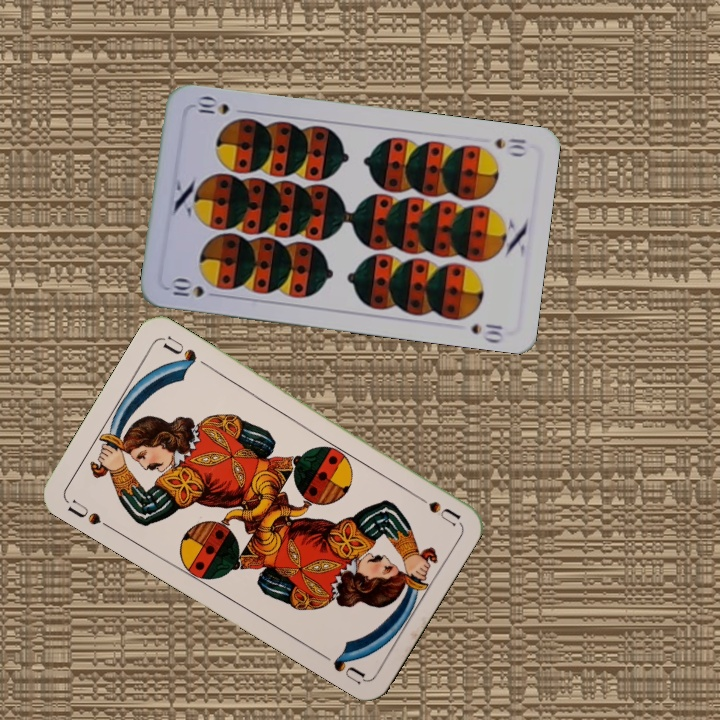S10: (167, 275, 223, 300), (490, 134, 529, 159)
SU: (407, 487, 463, 528), (63, 495, 116, 533)
